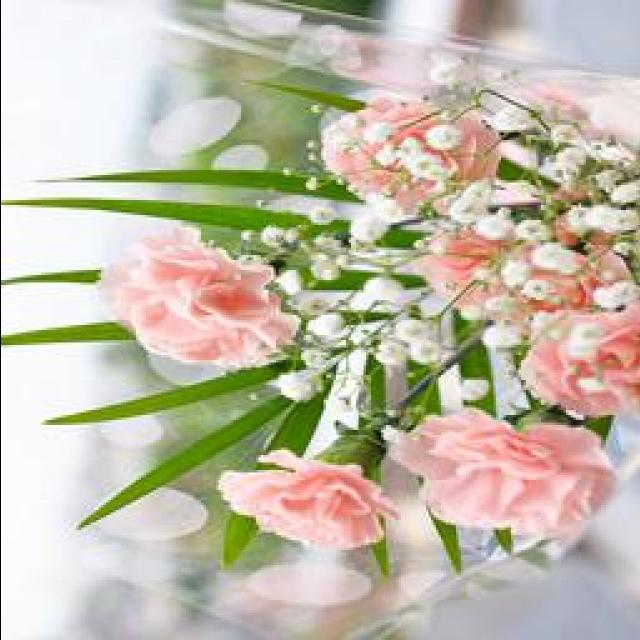carnation: (100, 221, 310, 394)
